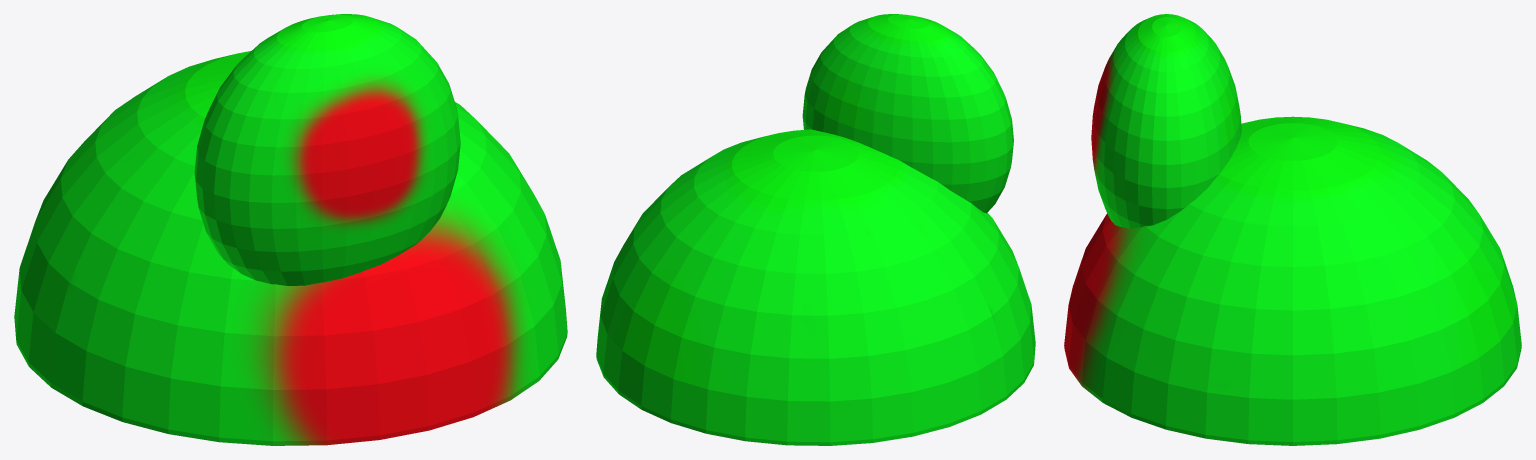
The model's file is alien1.fbx.
3 views of the same model, side by side, from view 1: azimuth 30°, elevation 25°; view 2: azimuth 150°, elevation 25°; view 3: azimuth 270°, elevation 25° (orthographic). The views are drawn at different scales.
Visible parts, largest first — view 1: Sphere; view 2: Sphere; view 3: Sphere.
Boxes of the visible parts, x1,y1,x2,y2 form: Sphere: (14, 14, 567, 445); Sphere: (596, 14, 1035, 445); Sphere: (1064, 14, 1521, 445).
Bounding box in the file's own units: 200 × 149 × 200.
Materials: 1 (1 with a texture image).
